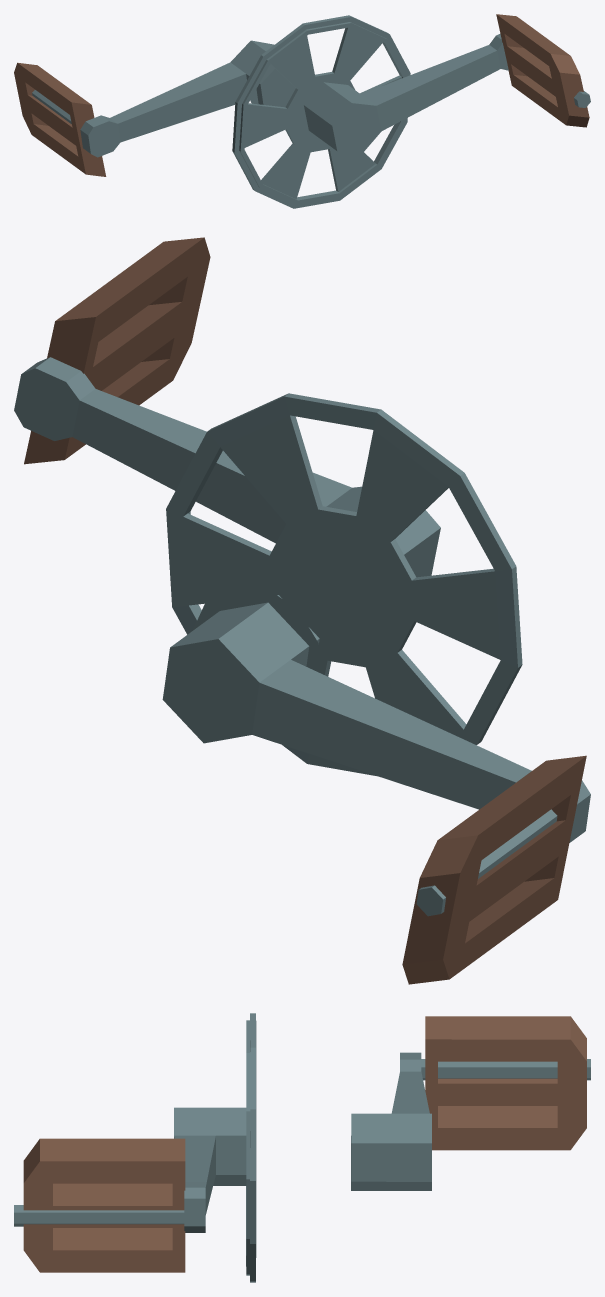
The model's file is bici_pedales.obj.
3 views of the same model, one above another, from view 1: azimuth 30°, elevation 25°; view 2: azimuth 150°, elevation 25°; view 3: azimuth 270°, elevation 25° (orthographic). The views are drawn at different scales.
Visible parts, largest first — view 1: Bike:Pedal_006_Cube_016; view 2: Bike:Pedal_006_Cube_016; view 3: Bike:Pedal_006_Cube_016.
Boxes of the visible parts, x1=… form: Bike:Pedal_006_Cube_016: x1=14, y1=14, x2=590, y2=208; Bike:Pedal_006_Cube_016: x1=14, y1=237, x2=590, y2=984; Bike:Pedal_006_Cube_016: x1=14, y1=1013, x2=590, y2=1282.
Size of the model in its own units: 0.4394 by 0.2084 by 0.4418.
Materials: 2 (2 with a texture image).
